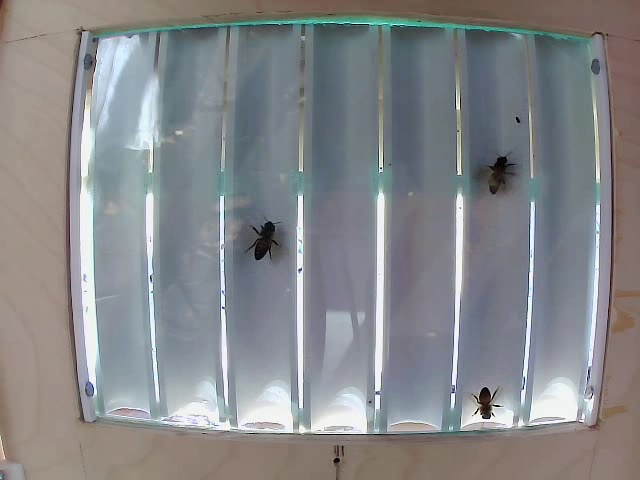bee: (245, 207, 288, 259), (481, 150, 508, 201)
